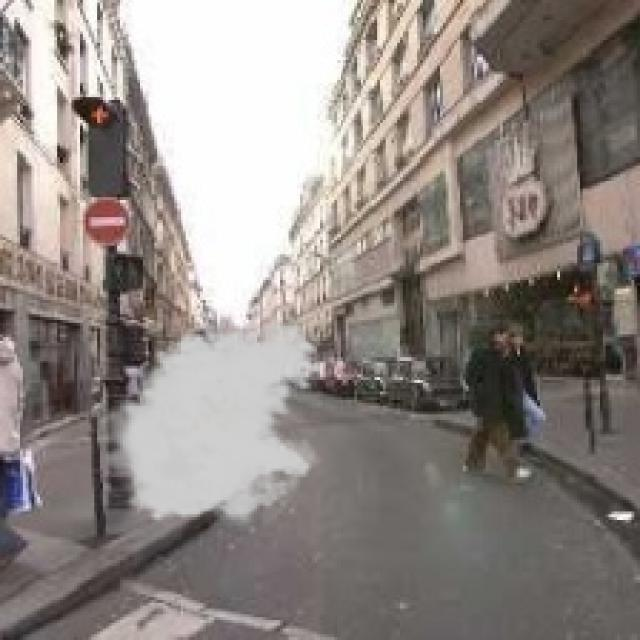Smoke: (94, 320, 326, 534)
